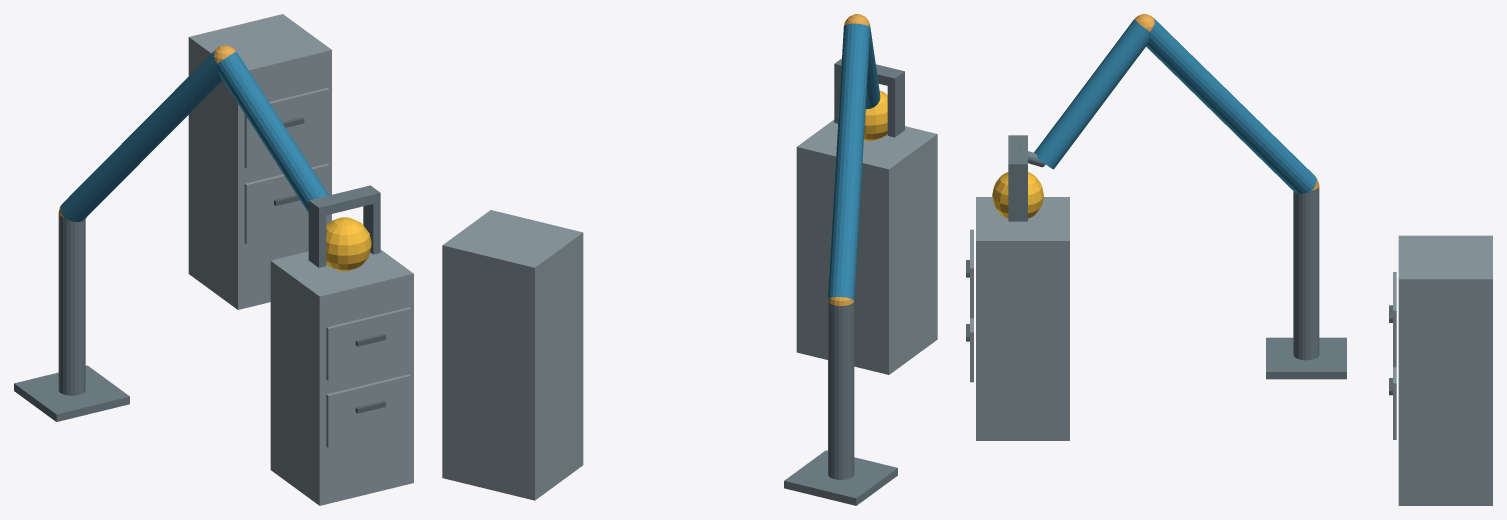
3 views of the same model, side by side, from view 1: azimuth 30°, elevation 25°; view 2: azimuth 150°, elevation 25°; view 3: azimuth 270°, elevation 25° (orthographic). The views are drawn at different scales.
Parts seen in each view (by area): view 1: cabinet_1 body, cabinet_2 body, moving link 1, fixed post, moving link 2, cabinet_1 drawer front.001, cabinet_1 drawer front, cabinet_2 drawer front, cabinet_2 drawer front.001, pedestal, ball ball_1, gripper bridge (+2 smaller); view 2: cabinet_2 body, cabinet_1 body, moving link 1, fixed post, pedestal, gripper finger -1, ball ball_1, moving link 2, gripper bridge; view 3: cabinet_2 body, cabinet_1 body, moving link 1, fixed post, moving link 2, pedestal, ball ball_1, gripper finger 1, gripper bridge.
Boxes of the visible parts, bbox=[...] form: cabinet_1 body: bbox=[270, 249, 413, 505]; cabinet_2 body: bbox=[188, 14, 331, 309]; moving link 1: bbox=[60, 50, 222, 221]; fixed post: bbox=[58, 214, 85, 395]; moving link 2: bbox=[217, 51, 328, 212]; cabinet_1 drawer front.001: bbox=[326, 307, 411, 381]; cabinet_1 drawer front: bbox=[326, 374, 411, 447]; cabinet_2 drawer front: bbox=[244, 163, 329, 244]; cabinet_2 drawer front.001: bbox=[244, 87, 329, 168]; pedestal: bbox=[14, 365, 129, 421]; ball ball_1: bbox=[326, 217, 371, 271]; gripper bridge: bbox=[308, 185, 380, 216]; cabinet_2 body: bbox=[442, 210, 583, 500]; cabinet_1 body: bbox=[796, 119, 937, 374]; moving link 1: bbox=[828, 23, 870, 300]; fixed post: bbox=[828, 301, 854, 479]; pedestal: bbox=[784, 450, 897, 505]; gripper finger -1: bbox=[887, 80, 904, 137]; ball ball_1: bbox=[864, 90, 887, 140]; moving link 2: bbox=[865, 23, 880, 109]; gripper bridge: bbox=[834, 58, 904, 87]; cabinet_2 body: bbox=[1398, 235, 1492, 505]; cabinet_1 body: bbox=[976, 197, 1069, 440]; moving link 1: bbox=[1146, 18, 1316, 193]; fixed post: bbox=[1293, 186, 1319, 360]; moving link 2: bbox=[1034, 19, 1149, 169]; pedestal: bbox=[1266, 337, 1346, 379]; ball ball_1: bbox=[992, 172, 1043, 218]; gripper finger 1: bbox=[1008, 173, 1027, 221]; gripper bridge: bbox=[1008, 135, 1027, 172].
Size of the model in its own units: 1.17 by 1.29 by 1.62.
